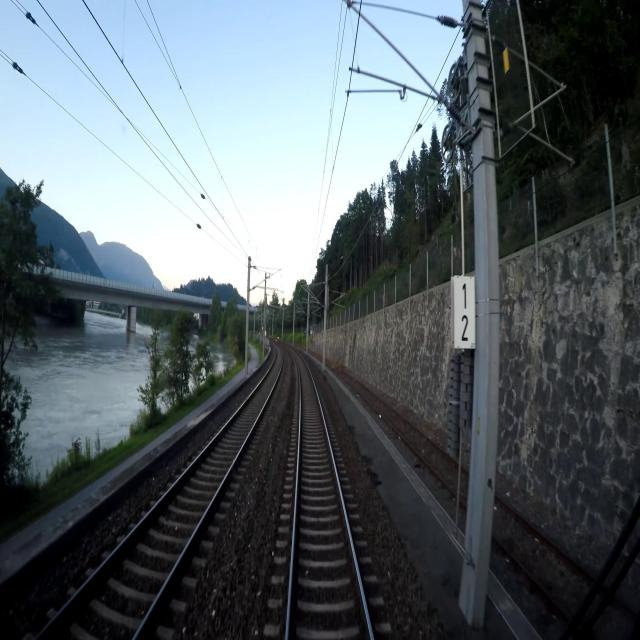rail-track: (39, 347, 281, 639), (289, 353, 369, 639)
